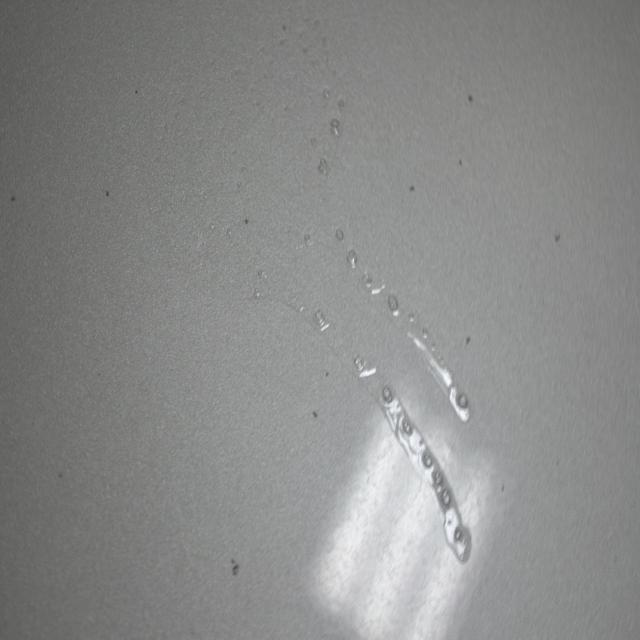dirt: (227, 554, 241, 579), (306, 406, 320, 421), (552, 229, 562, 245), (8, 190, 18, 205), (463, 332, 472, 348), (104, 185, 113, 199), (322, 368, 331, 380), (56, 469, 63, 482), (458, 157, 464, 169), (409, 183, 416, 193), (244, 217, 248, 226)
runs: (170, 9, 470, 556)
